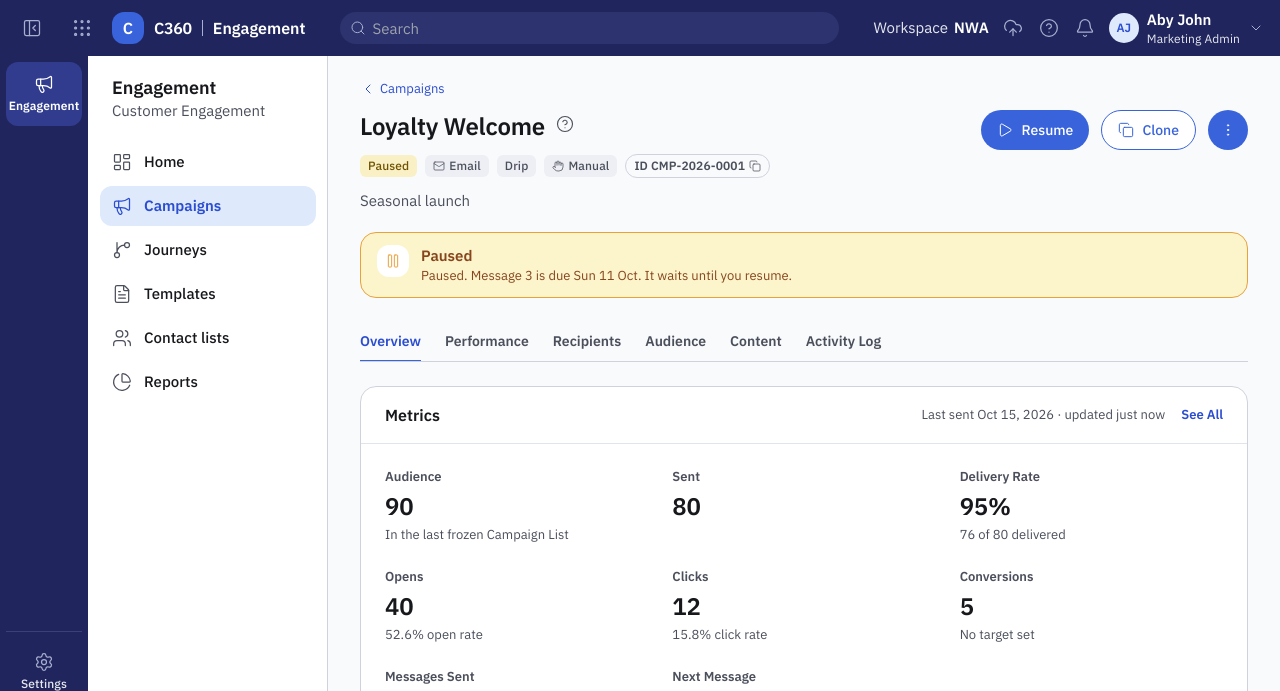
Test: resume with nothing missed says so
Click the button "Resume". click: {"x": 1035, "y": 130}
box: x1=982 y1=110 x2=1089 y2=150
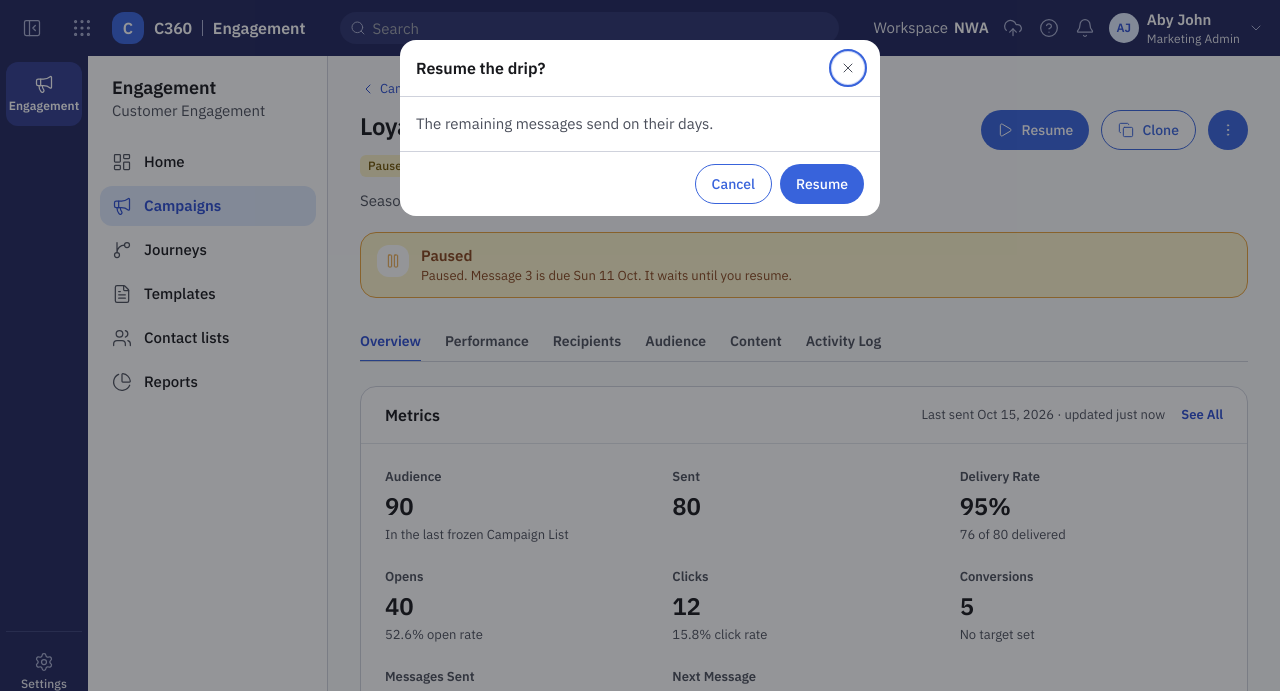
Result: the text "The remaining messages send on their days." is shown at x1=416 y1=114 x2=713 y2=133
